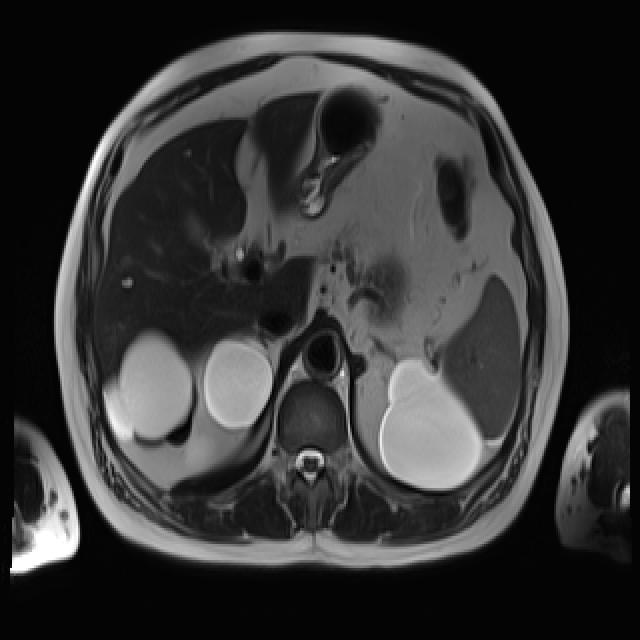sag: (102, 331, 199, 450), (204, 334, 275, 430)
sol: (378, 356, 485, 490)
